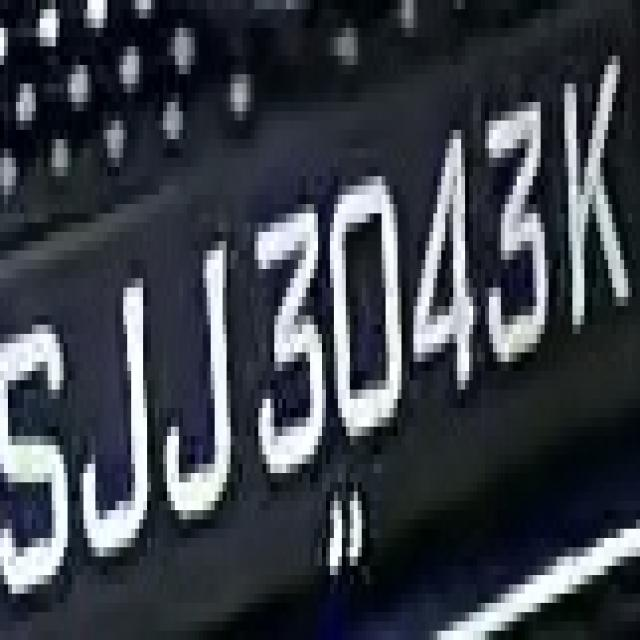0: (306, 167, 417, 473)
3: (234, 185, 330, 482), (473, 74, 557, 390)
4: (398, 120, 481, 454)
J: (143, 204, 235, 547), (68, 260, 155, 603)
K: (553, 28, 636, 352)
S: (0, 297, 76, 640)
